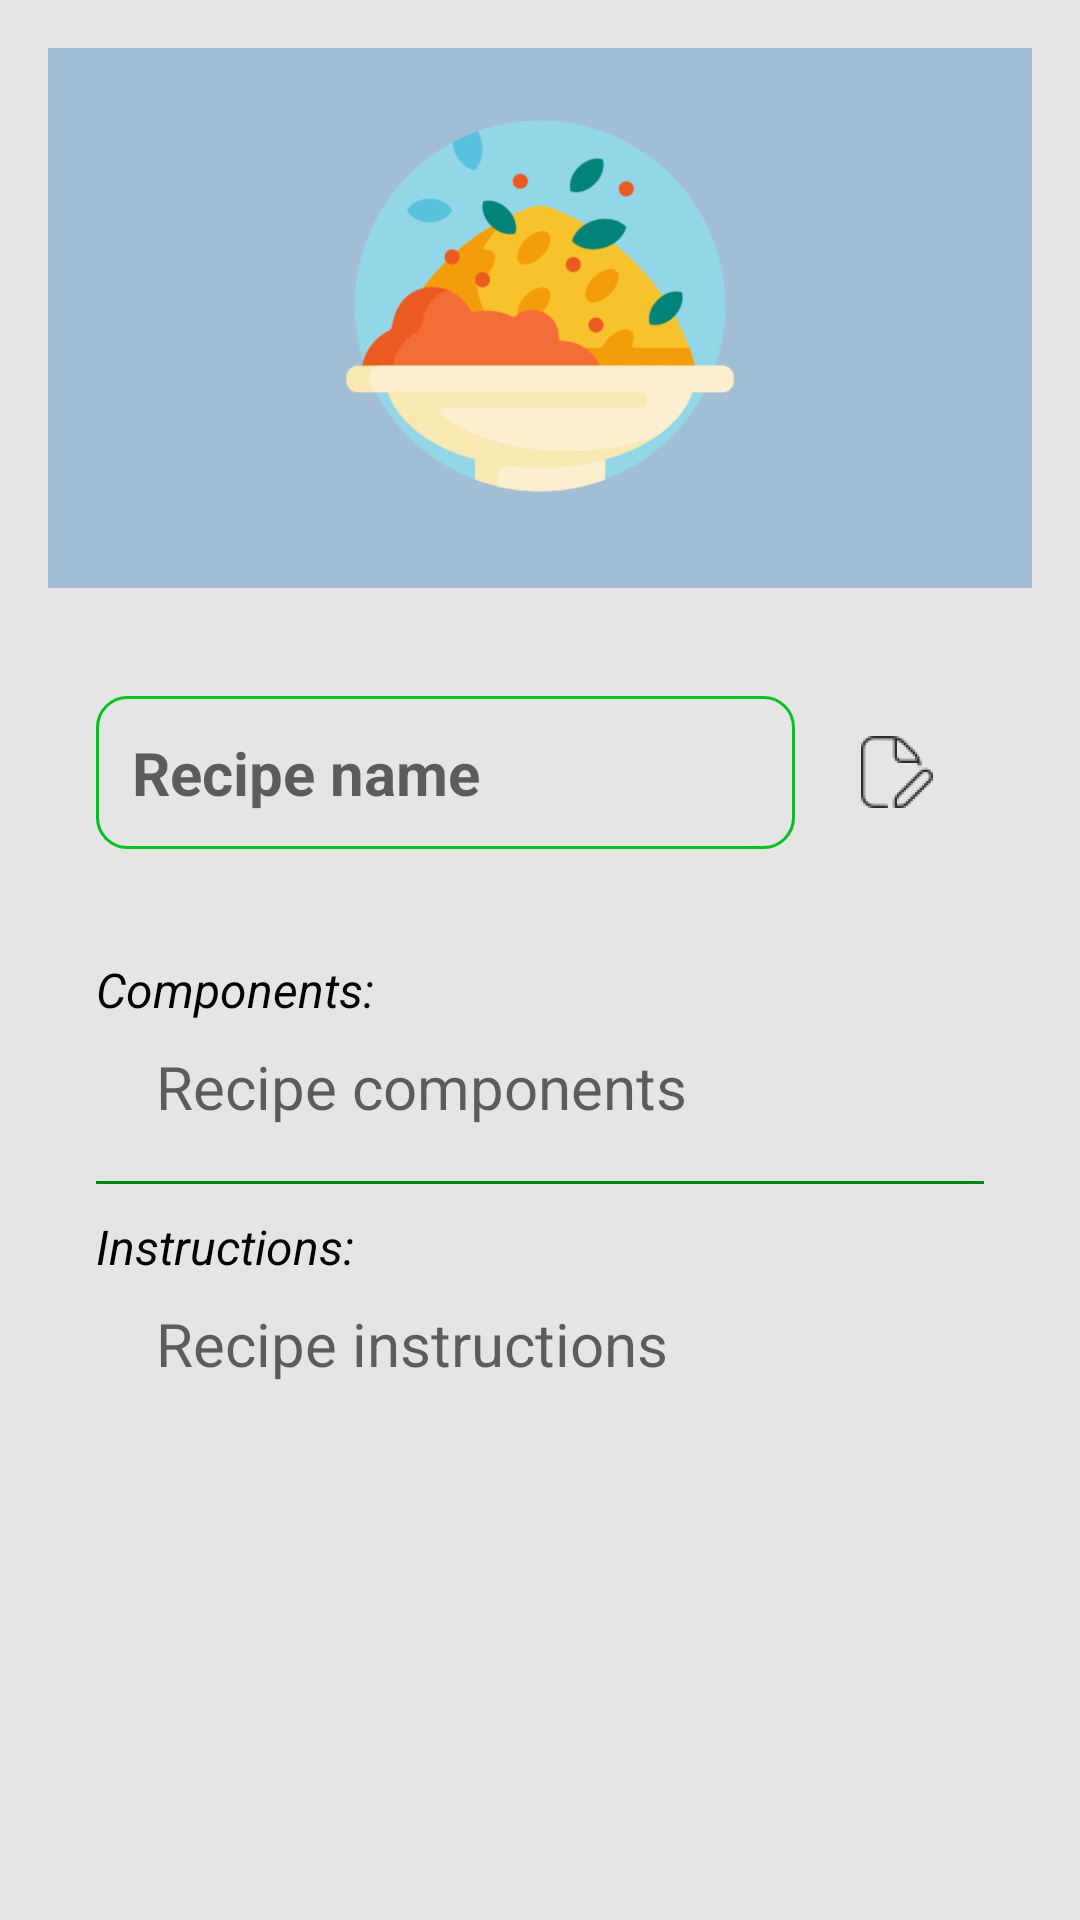

Where icons sit on this 1080×1920 app screen, as (x1, y1, x2, y2):
edit: (861, 736, 933, 808)
